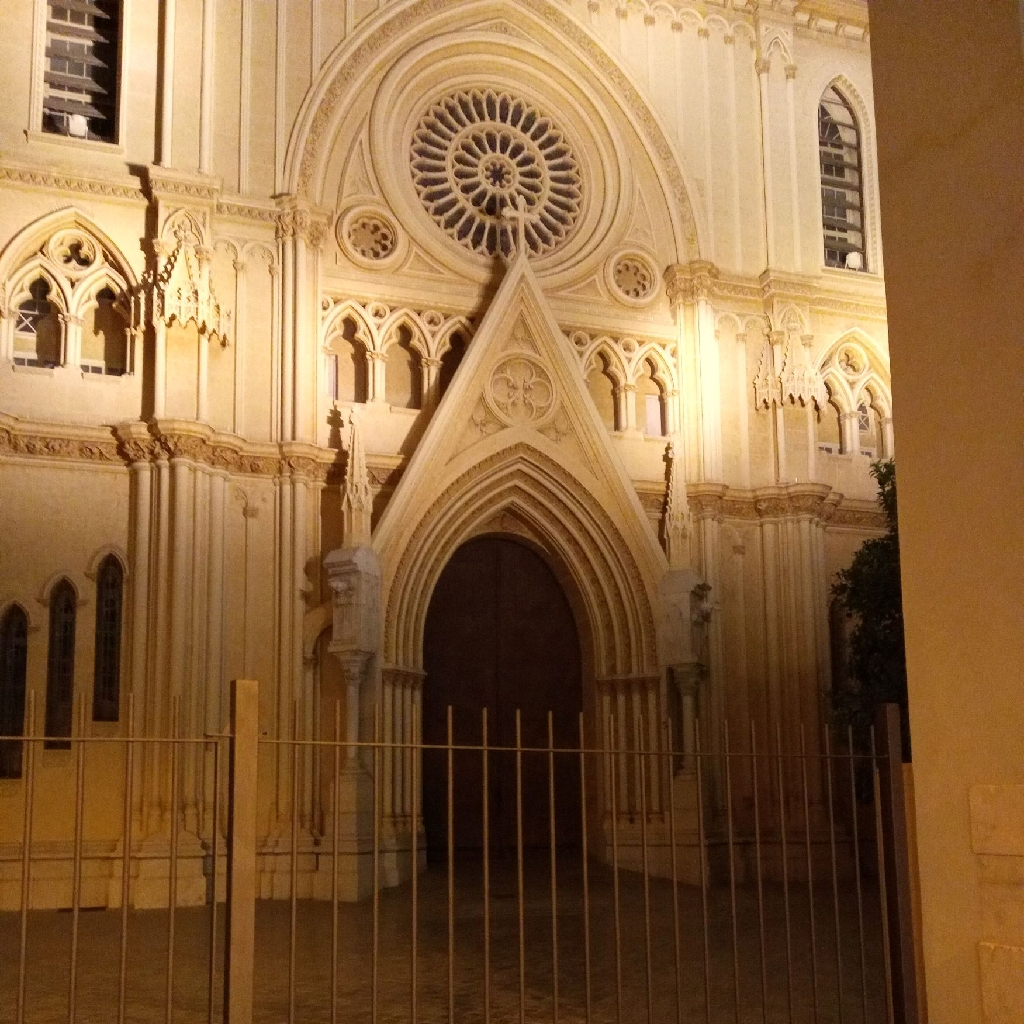arco-apuntado: (300, 1, 677, 253), (389, 447, 641, 675), (1, 200, 137, 320)
